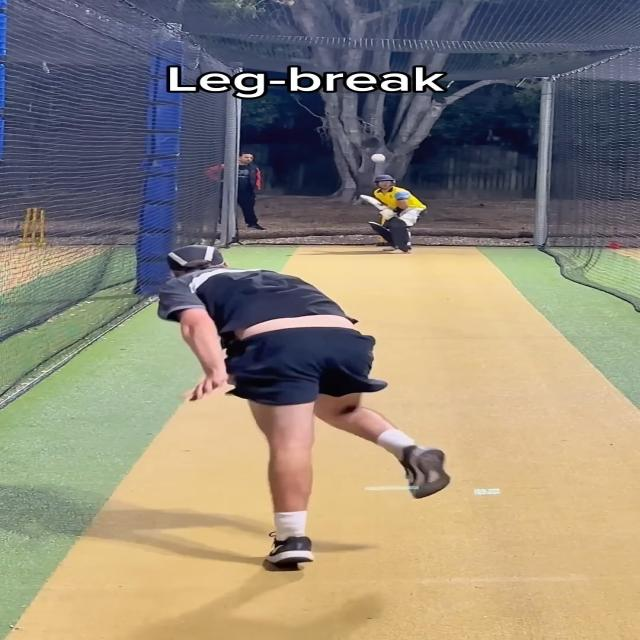Cricket ball: (369, 153, 387, 163)
